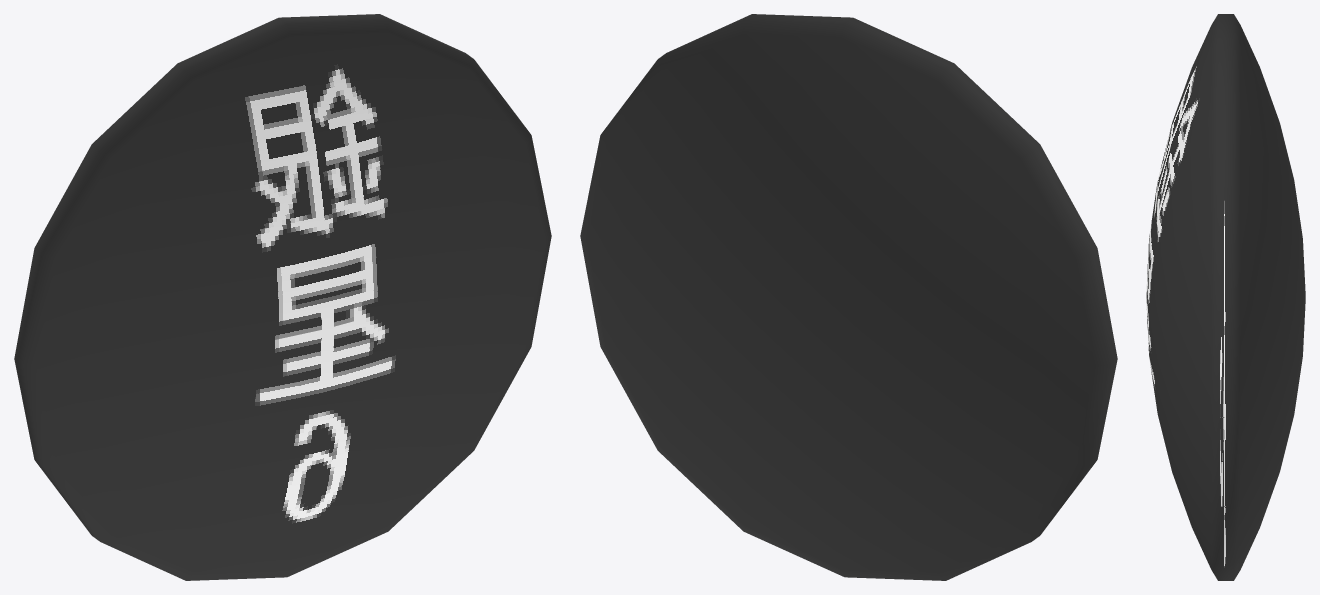
Rendered from ps2_save-icons_sekaisaikyouginseiigo6.glb.
3 views of the same model, side by side, from view 1: azimuth 30°, elevation 25°; view 2: azimuth 150°, elevation 25°; view 3: azimuth 270°, elevation 25° (orthographic). The views are drawn at different scales.
Parts seen in each view (by area): view 1: GO1.ICO; view 2: GO1.ICO; view 3: GO1.ICO.
Part boxes in pixels (x1,y1,x2,y2): GO1.ICO: (14,14,551,580); GO1.ICO: (580,14,1117,580); GO1.ICO: (1146,14,1305,580).
Size of the model in its own units: 4 by 4 by 1.12.
1 material, 1 textured.
